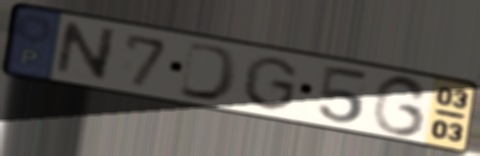5: (314, 63, 371, 126)
7: (122, 32, 170, 88)
D: (175, 39, 241, 105)
G: (368, 73, 432, 139), (238, 54, 302, 113)
N: (51, 20, 121, 84)
